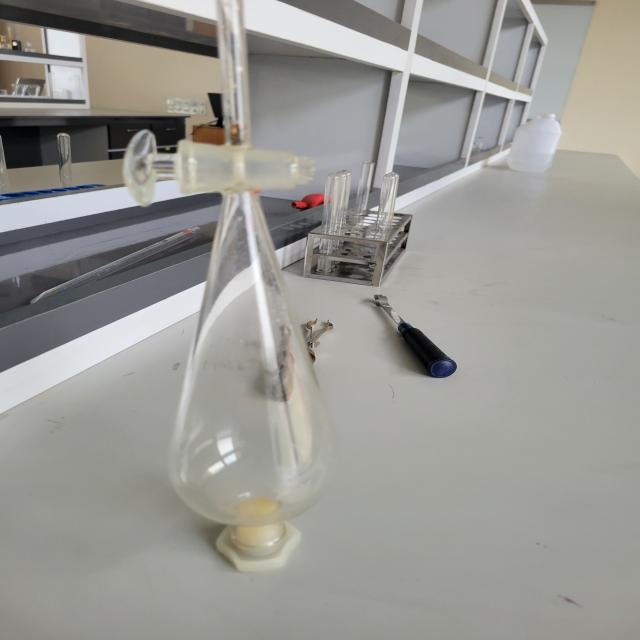Separating_Funnel: (81, 5, 387, 605)
